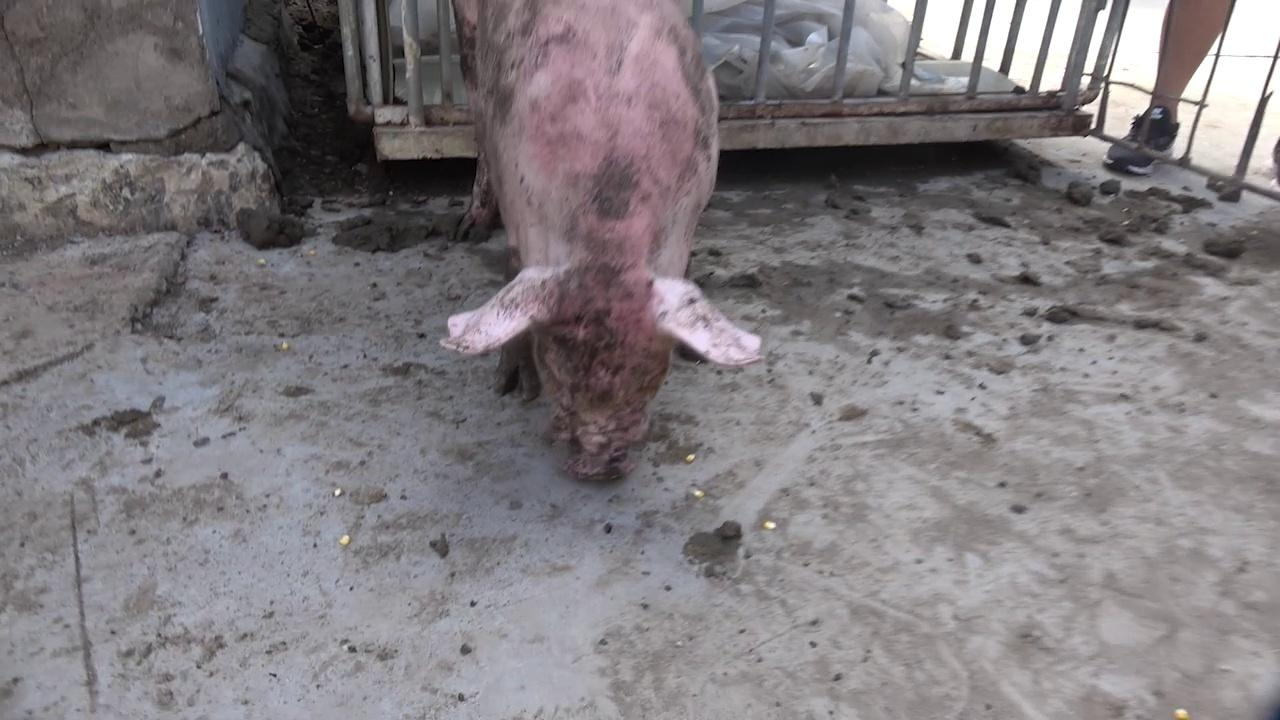Face: (437, 257, 773, 495)
